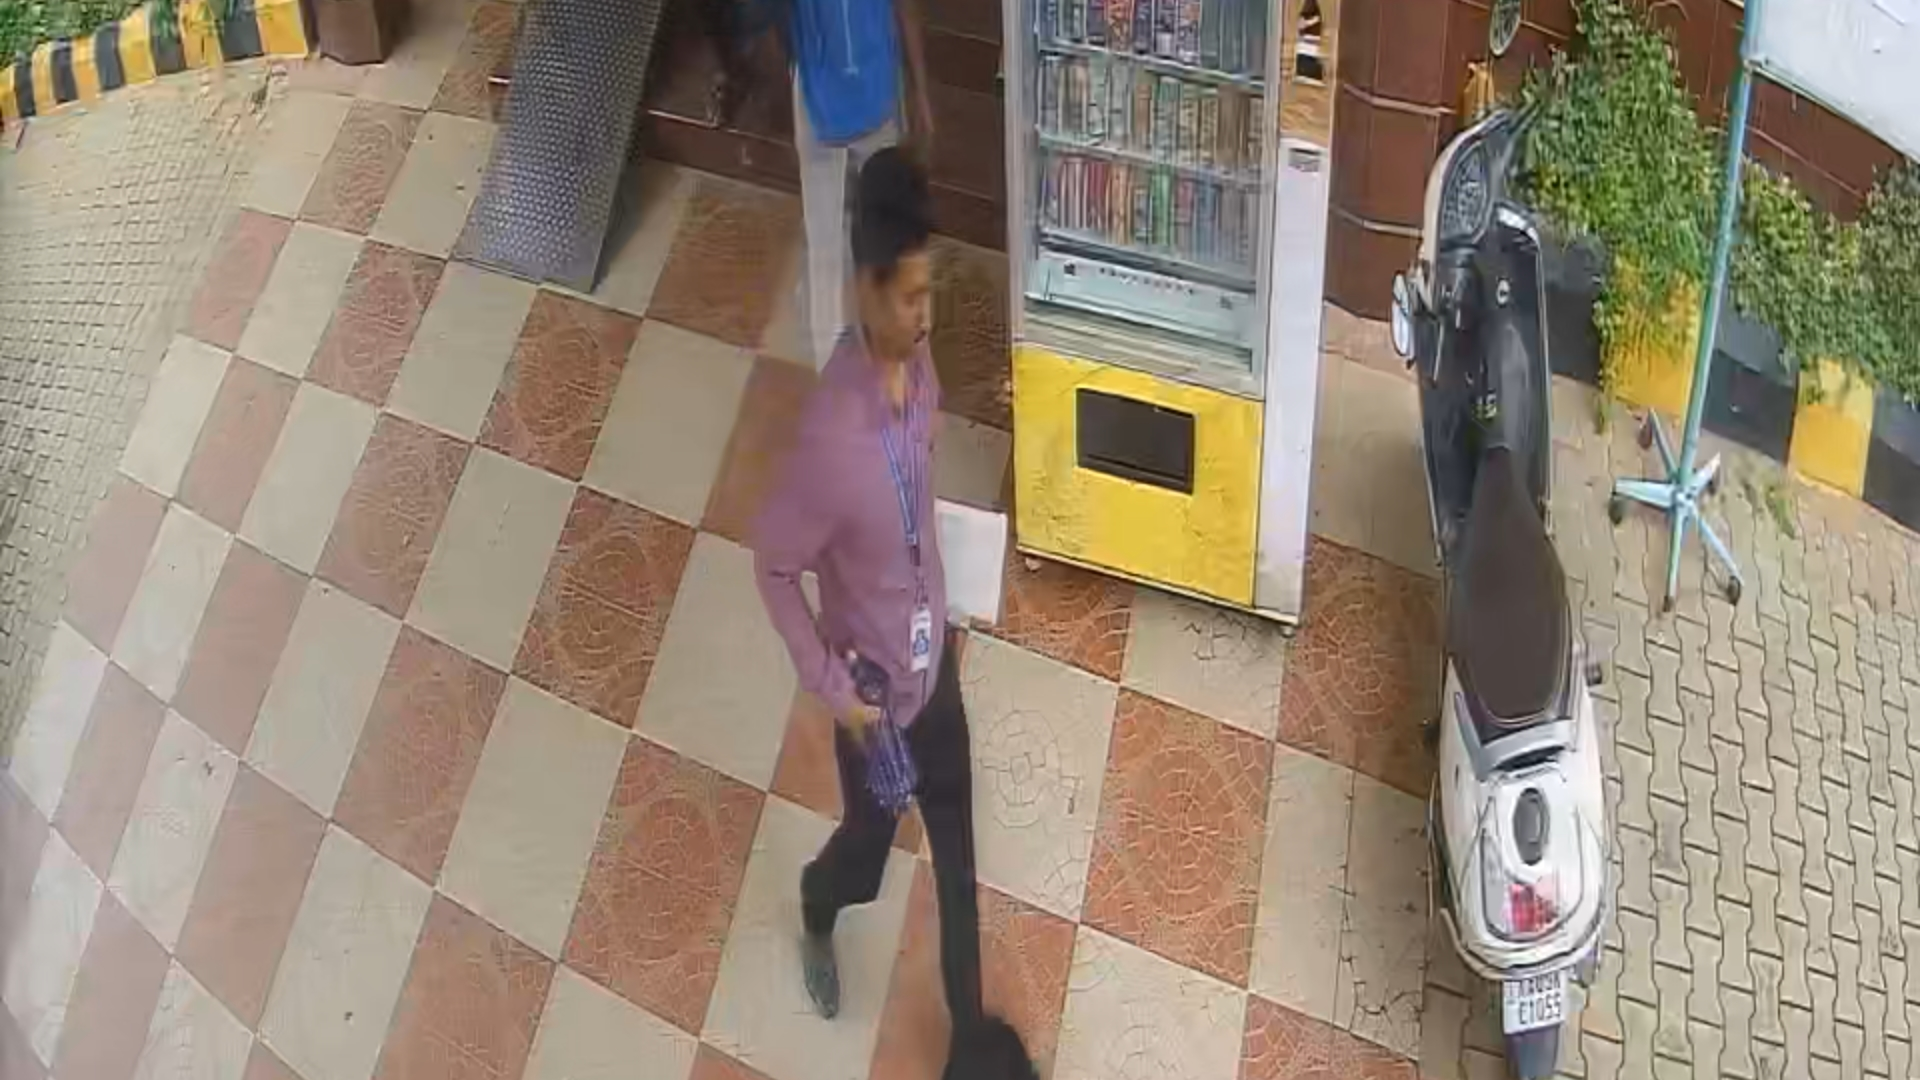not intruder: (764, 165, 1011, 1080)
